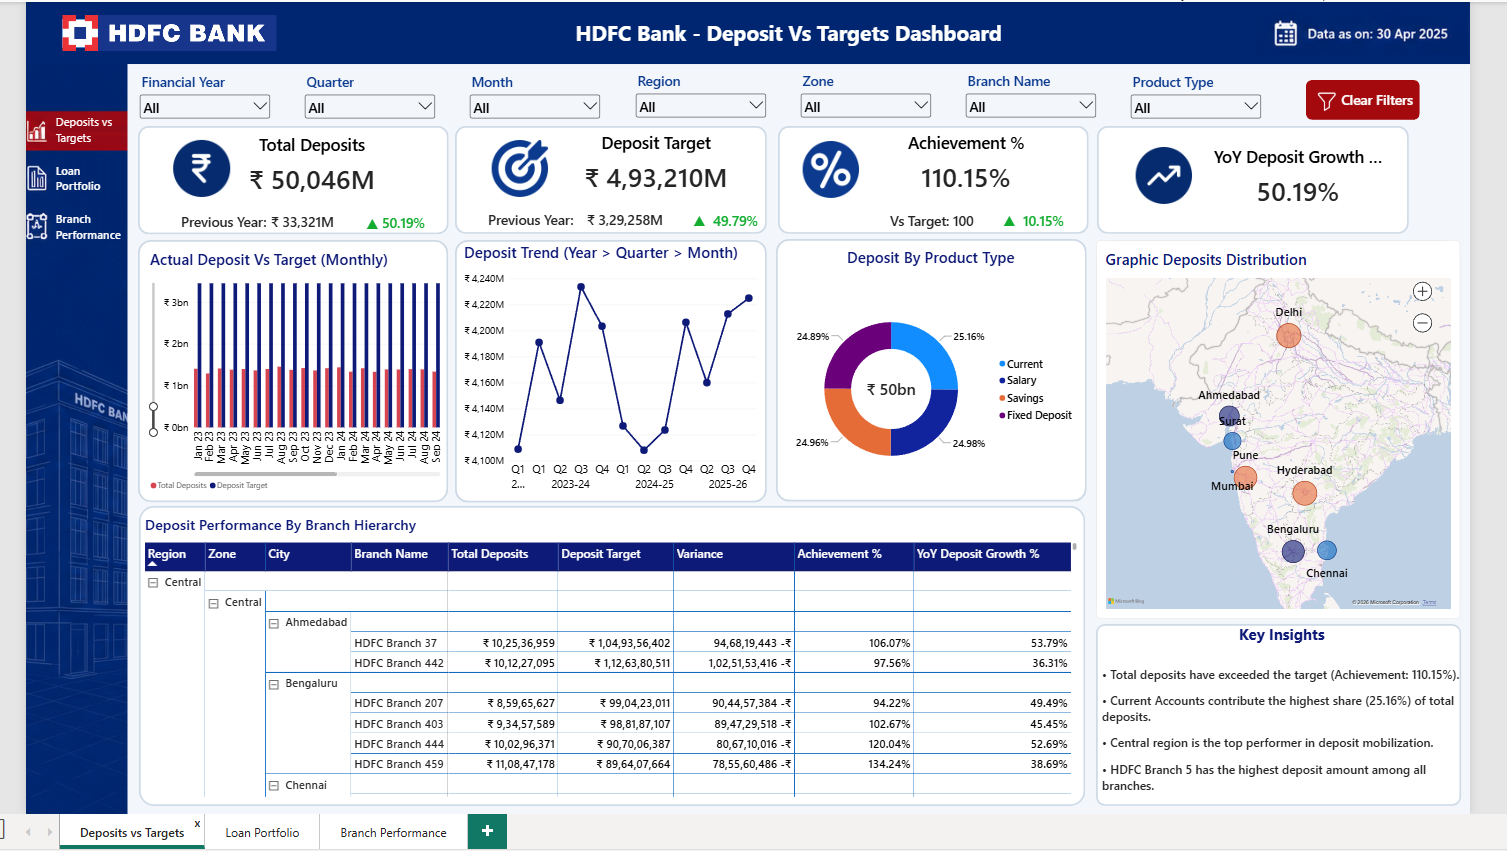

Layout of this report page (visuals, bound fields, positions):
{"tool":"powerbi","page":{"name":"Deposits vs Targets","canvas":[2560,1440],"ordinal":0},"visuals":[{"type":"shape","title":"Header","box":[0,0,2560.8,110.2],"z":0,"group":"g12"},{"type":"image","box":[0,0,180,1440],"z":0},{"type":"slicer","title":"Year","fields":{"Values":["Dim Date.Financial Year"]},"box":[196,122,241.1,89.4],"z":0,"group":"g11"},{"type":"actionButton","box":[2269.8,137.2,201.6,70.7],"z":0,"group":"g6"},{"type":"shape","box":[1898.7,219.3,552.9,191.2],"z":0,"group":"g7"},{"type":"shape","box":[760.7,220.3,552.9,191.2],"z":0,"group":"g9"},{"type":"shape","box":[1333.1,220.4,550.8,191.2],"z":0,"group":"g8"},{"type":"shape","box":[199,220.5,550.8,192.1],"z":0,"group":"g10"},{"type":"image","box":[254.1,242.1,116.4,108.1],"z":0,"group":"g4"},{"type":"cardVisual","fields":{"Data":["Measures_.Deposit Target PY"]},"box":[977.6,370.3,177.3,30],"z":0,"group":"g1"},{"type":"textbox","box":[1531.7,371.6,158.2,36],"z":0,"group":"g2"},{"type":"cardVisual","fields":{"Data":["Measures_.Total Deposits PY"]},"box":[419.6,375.1,160.6,28.8],"z":0,"group":"g3"},{"type":"shape","box":[198,422,550,465],"z":0,"group":"g5"},{"type":"pageNavigator","box":[40,182.5,140,257.5],"z":500},{"type":"shape","title":"Logo 2nd","box":[64.7,30.9,64.7,50.8],"z":1000,"group":"g12"},{"type":"slicer","title":"Qua","fields":{"Values":["Dim Date.Quarter"]},"box":[489,121.7,241.1,89.4],"z":1000,"group":"g11"},{"type":"image","box":[2288.5,143.4,35.3,62.4],"z":1000,"group":"g6"},{"type":"cardVisual","fields":{"Data":["Measures_.Total Deposits"]},"box":[342.8,230.1,330.8,119.9],"z":1000,"group":"g4"},{"type":"cardVisual","fields":{"Data":["Measures_.YoY Deposit Growth %"]},"box":[2090.1,250.2,330.8,119.9],"z":1000,"group":"g7"},{"type":"group","id":"g1","title":"Side-KPI","box":[818.8,363.3,498.6,47.9],"z":1000,"group":"g9"},{"type":"group","id":"g2","title":"Side-KPI","box":[1531.7,364.3,334.1,47.9],"z":1000,"group":"g8"},{"type":"cardVisual","title":"%","fields":{"Data":["Measures_.Achievement Diff %"]},"box":[1750.7,364.3,115.1,47.9],"z":1000,"group":"g2"},{"type":"textbox","box":[818.8,367.8,193.2,35],"z":1000,"group":"g1"},{"type":"textbox","box":[275.8,372.7,175,33.6],"z":1000,"group":"g3"},{"type":"group","id":"g3","title":"Side-KPI","box":[275.8,372.7,457.8,38.4],"z":1000,"group":"g10"},{"type":"shape","box":[760.7,421.9,552.9,465.6],"z":1000},{"type":"clusteredColumnChart","title":"Actual Deposit Vs Target (Monthly)","fields":{"Category":["Dim Date.Month Year"],"Y":["Measures_.Total Deposits","Measures_.Deposit Target"]},"box":[202.5,423.9,546.7,463.5],"z":1000,"group":"g5"},{"type":"image","title":"Logo","box":[0,0,509.2,110.2],"z":2000,"group":"g12"},{"type":"slicer","title":"Month","fields":{"Values":["Branch Deposit Targets.Month"]},"box":[782,121,241.1,89.4],"z":2000,"group":"g11"},{"type":"cardVisual","fields":{"Data":["Measures_.Deposit Target"]},"box":[952.2,225,330.8,119.9],"z":2000,"group":"g9"},{"type":"cardVisual","fields":{"Data":["Measures_.Achievement %"]},"box":[1501.7,226,330.8,119.9],"z":2000,"group":"g8"},{"type":"group","id":"g4","title":"KPI","box":[254.1,230.1,419.5,120.1],"z":2000,"group":"g10"},{"type":"image","box":[1957.4,255.9,119.9,100.7],"z":2000,"group":"g7"},{"type":"cardVisual","title":"%","fields":{"Data":["Measures_.Target Growth %"]},"box":[1201.2,363.3,115.1,47.9],"z":2000,"group":"g1"},{"type":"textbox","title":"Arrow","box":[1722.5,371.6,39.7,37.6],"z":2000,"group":"g2"},{"type":"cardVisual","title":"%","fields":{"Data":["Measures_.YoY Deposit Growth %"]},"box":[615.8,375.4,117.5,28.8],"z":2000,"group":"g3"},{"type":"shape","box":[1330.3,419.9,550.8,465.6],"z":2000},{"type":"textbox","title":"Heading","box":[796.1,29,1112.5,51.2],"z":3000,"group":"g12"},{"type":"slicer","title":"Region","fields":{"Values":["Dim Branch.Region"]},"box":[1075,120.7,241.1,89.4],"z":3000,"group":"g11"},{"type":"image","box":[816.4,245.9,119.9,100.7],"z":3000,"group":"g9"},{"type":"image","box":[1366,246.8,119.9,100.7],"z":3000,"group":"g8"},{"type":"textbox","title":"Arrow","box":[1172.9,370.6,39.7,37.6],"z":3000,"group":"g1"},{"type":"textbox","title":"Arrow","box":[596.6,375.4,36,36],"z":3000,"group":"g3"},{"type":"shape","box":[1897.7,421.9,646.4,671.4],"z":3000},{"type":"slicer","title":"Zone","fields":{"Values":["Dim Branch.Zone"]},"box":[1368,120.3,241.1,89.4],"z":4000,"group":"g11"},{"type":"shape","box":[200,894,1678,532],"z":4000},{"type":"slicer","title":"Branch","fields":{"Values":["Dim Branch.Branch Name"]},"box":[1661,120,241.1,89.4],"z":5000,"group":"g11"},{"type":"shape","box":[1897.5,1102.5,647.5,322.5],"z":5000},{"type":"slicer","title":"Product","fields":{"Values":["Dim Product.Product Name"]},"box":[1954,121.3,241.1,89.4],"z":6000,"group":"g11"},{"type":"group","id":"g5","title":"1st Chart","box":[198,422,550,466],"z":6000},{"type":"group","id":"g6","title":"Clear Filter","box":[2269.8,137.2,201.6,70.7],"z":7000,"group":"g11"},{"type":"group","id":"g7","title":"4th KPI","box":[1898.7,219.3,552.9,191.2],"z":7000},{"type":"group","id":"g8","title":"3rd KPI","box":[1333.1,220.4,550.8,191.8],"z":8000},{"type":"group","id":"g9","title":"2nd KPI","box":[760.7,220.3,556.7,191.2],"z":9000},{"type":"group","id":"g10","title":"1st KPI","box":[199,220.5,550.8,192.1],"z":10000},{"type":"group","id":"g11","title":"Slicer","box":[196,120,2275.4,91.4],"z":11000},{"type":"group","id":"g12","title":"Header","box":[0,0,2560,110],"z":12000},{"type":"lineChart","title":"Deposit Trend (Year > Quarter > Month)","fields":{"Category":["Dim Date.Financial Year","Dim Date.Quarter","Dim Date.Month Year"],"Y":["Measures_.Total Deposits"]},"box":[760,412,552,482],"z":13000},{"type":"donutChart","title":"Deposit By Product Type","fields":{"Category":["Dim Product.Product Name"],"Y":["Measures_.Total Deposits"]},"box":[1328.3,420,552,482],"z":14000},{"type":"map","title":"Graphic Deposits Distribution","fields":{"Category":["Dim Branch.City"],"Size":["Measures_.Total Deposits"]},"box":[1898,422,646,672],"z":15000},{"type":"pivotTable","title":"Deposit Performance By Branch Hierarchy","fields":{"Rows":["Dim Branch.Region","Dim Branch.Zone","Dim Branch.City","Dim Branch.Branch Name"],"Values":["Measures_.Total Deposits","Measures_.Deposit Target","Measures_.Variance","Measures_.Achievement %","Measures_.YoY Deposit Growth %"]},"box":[195,895,1685,530],"z":16000},{"type":"textbox","box":[1907.5,1102.5,637.5,322.5],"z":17000},{"type":"image","box":[2180,0,380,110],"z":18000}]}

Visuals, with their boxes on the page's 2560x1440 design canvas (x1, y1, x2, y2). These are canvas units, not pixel positions in the 1507x851 screenshot, which may show the page scaled, cropped or inside an application window:
"Header" shape: 0, 0, 2561, 110
image: 0, 0, 180, 1440
"Year" slicer: 196, 122, 437, 211
actionButton: 2270, 137, 2471, 208
shape: 1899, 219, 2452, 410
shape: 761, 220, 1314, 412
shape: 1333, 220, 1884, 412
shape: 199, 220, 750, 413
image: 254, 242, 370, 350
cardVisual - Measures_.Deposit Target PY: 978, 370, 1155, 400
textbox: 1532, 372, 1690, 408
cardVisual - Measures_.Total Deposits PY: 420, 375, 580, 404
shape: 198, 422, 748, 887
pageNavigator: 40, 182, 180, 440
"Logo 2nd" shape: 65, 31, 129, 82
"Qua" slicer: 489, 122, 730, 211
image: 2288, 143, 2324, 206
cardVisual - Measures_.Total Deposits: 343, 230, 674, 350
cardVisual - Measures_.YoY Deposit Growth %: 2090, 250, 2421, 370
"Side-KPI" group: 819, 363, 1317, 411
"Side-KPI" group: 1532, 364, 1866, 412
"%" cardVisual: 1751, 364, 1866, 412
textbox: 819, 368, 1012, 403
textbox: 276, 373, 451, 406
"Side-KPI" group: 276, 373, 734, 411
shape: 761, 422, 1314, 888
"Actual Deposit Vs Target (Monthly)" clusteredColumnChart: 202, 424, 749, 887
"Logo" image: 0, 0, 509, 110
"Month" slicer: 782, 121, 1023, 210
cardVisual - Measures_.Deposit Target: 952, 225, 1283, 345
cardVisual - Measures_.Achievement %: 1502, 226, 1832, 346
"KPI" group: 254, 230, 674, 350
image: 1957, 256, 2077, 357
"%" cardVisual: 1201, 363, 1316, 411
"Arrow" textbox: 1722, 372, 1762, 409
"%" cardVisual: 616, 375, 733, 404
shape: 1330, 420, 1881, 886
"Heading" textbox: 796, 29, 1909, 80
"Region" slicer: 1075, 121, 1316, 210
image: 816, 246, 936, 347
image: 1366, 247, 1486, 348
"Arrow" textbox: 1173, 371, 1213, 408
"Arrow" textbox: 597, 375, 633, 411
shape: 1898, 422, 2544, 1093
"Zone" slicer: 1368, 120, 1609, 210
shape: 200, 894, 1878, 1426
"Branch" slicer: 1661, 120, 1902, 209
shape: 1898, 1102, 2545, 1425
"Product" slicer: 1954, 121, 2195, 211
"1st Chart" group: 198, 422, 748, 888
"Clear Filter" group: 2270, 137, 2471, 208
"4th KPI" group: 1899, 219, 2452, 410
"3rd KPI" group: 1333, 220, 1884, 412
"2nd KPI" group: 761, 220, 1317, 412
"1st KPI" group: 199, 220, 750, 413
"Slicer" group: 196, 120, 2471, 211
"Header" group: 0, 0, 2560, 110
"Deposit Trend (Year > Quarter > Month)" lineChart: 760, 412, 1312, 894
"Deposit By Product Type" donutChart: 1328, 420, 1880, 902
"Graphic Deposits Distribution" map: 1898, 422, 2544, 1094
"Deposit Performance By Branch Hierarchy" pivotTable: 195, 895, 1880, 1425
textbox: 1908, 1102, 2545, 1425
image: 2180, 0, 2560, 110
